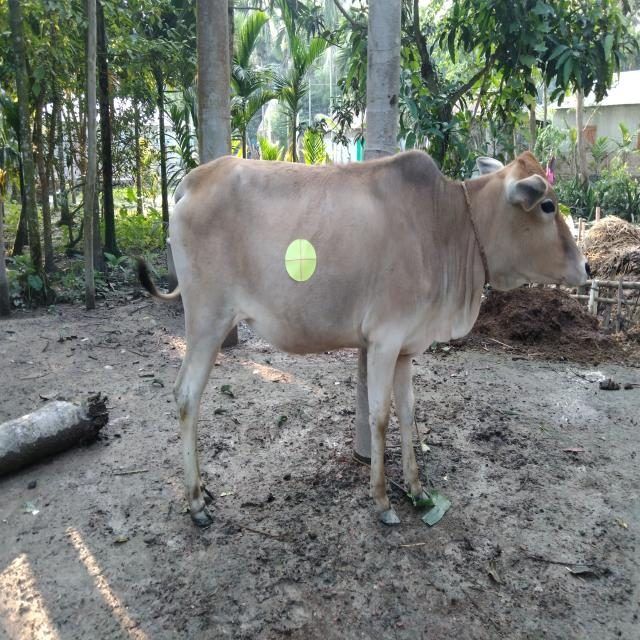badan_sapi: (170, 163, 448, 350)
sapi: (156, 136, 600, 549)
